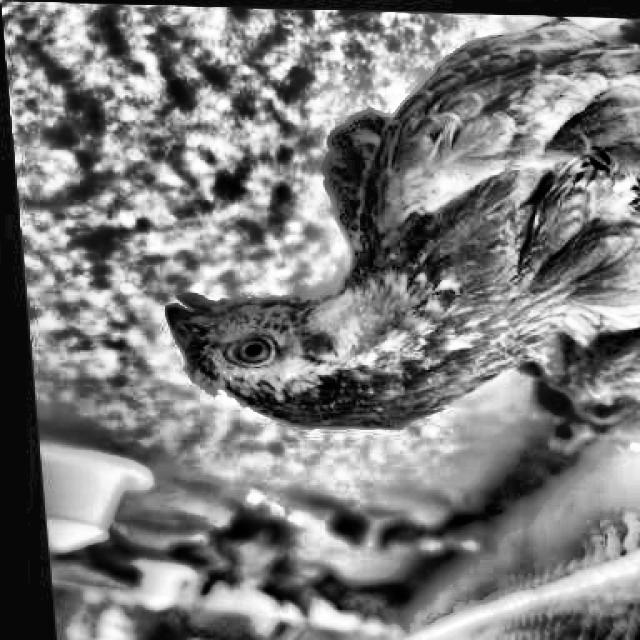Healthy: (224, 328, 288, 374)
